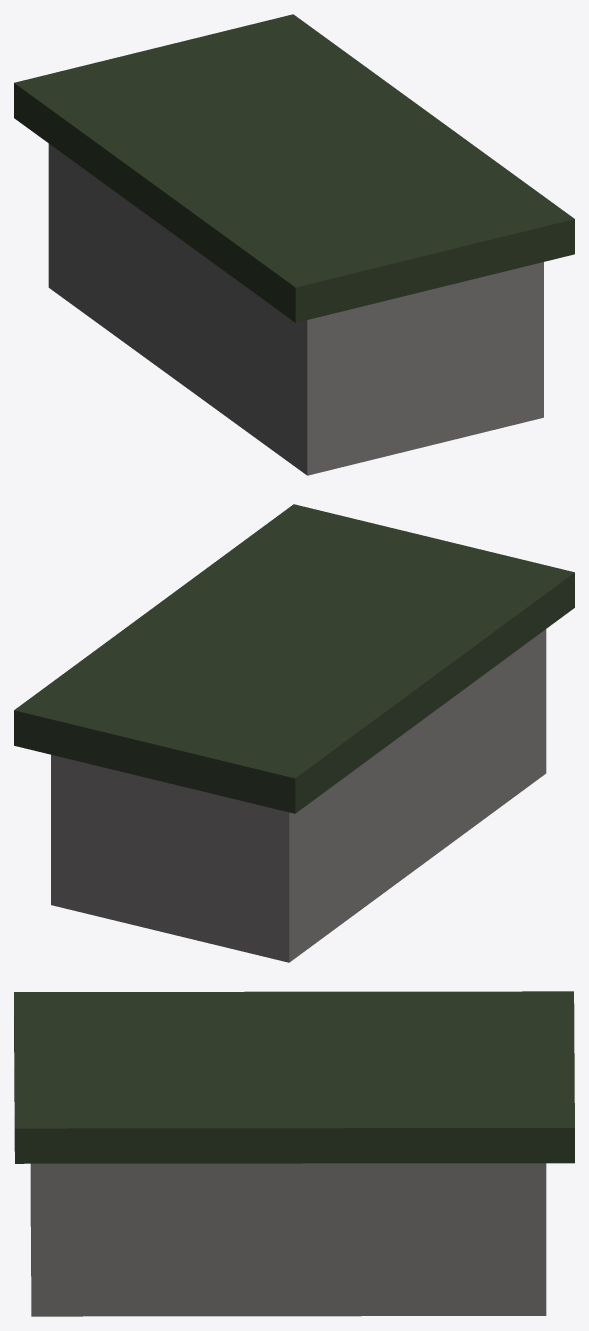
Rendered from green-box.dae.
The picture shows the model from 3 angles, top to bottom: view 1: azimuth 30°, elevation 25°; view 2: azimuth 150°, elevation 25°; view 3: azimuth 270°, elevation 25°; orthographic projection.
Visible parts, largest first — view 1: group_1, group_2; view 2: group_1, group_2; view 3: group_1, group_2.
Part boxes in pixels (<box>): group_1: <box>14,14,574,322</box>; group_2: <box>48,143,543,475</box>; group_1: <box>14,504,574,813</box>; group_2: <box>51,629,546,962</box>; group_1: <box>14,991,574,1163</box>; group_2: <box>30,1163,546,1316</box>.
Bounding box in the file's own units: 25.42 × 43.96 × 17.21.
